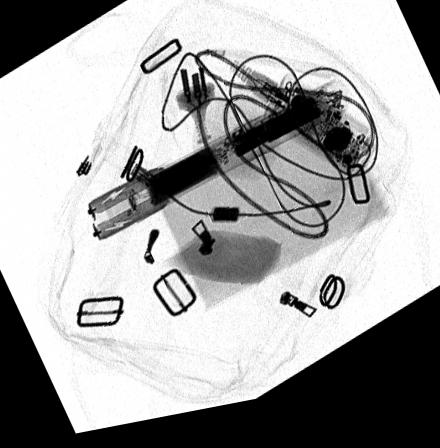Baton: (85, 91, 349, 249)
